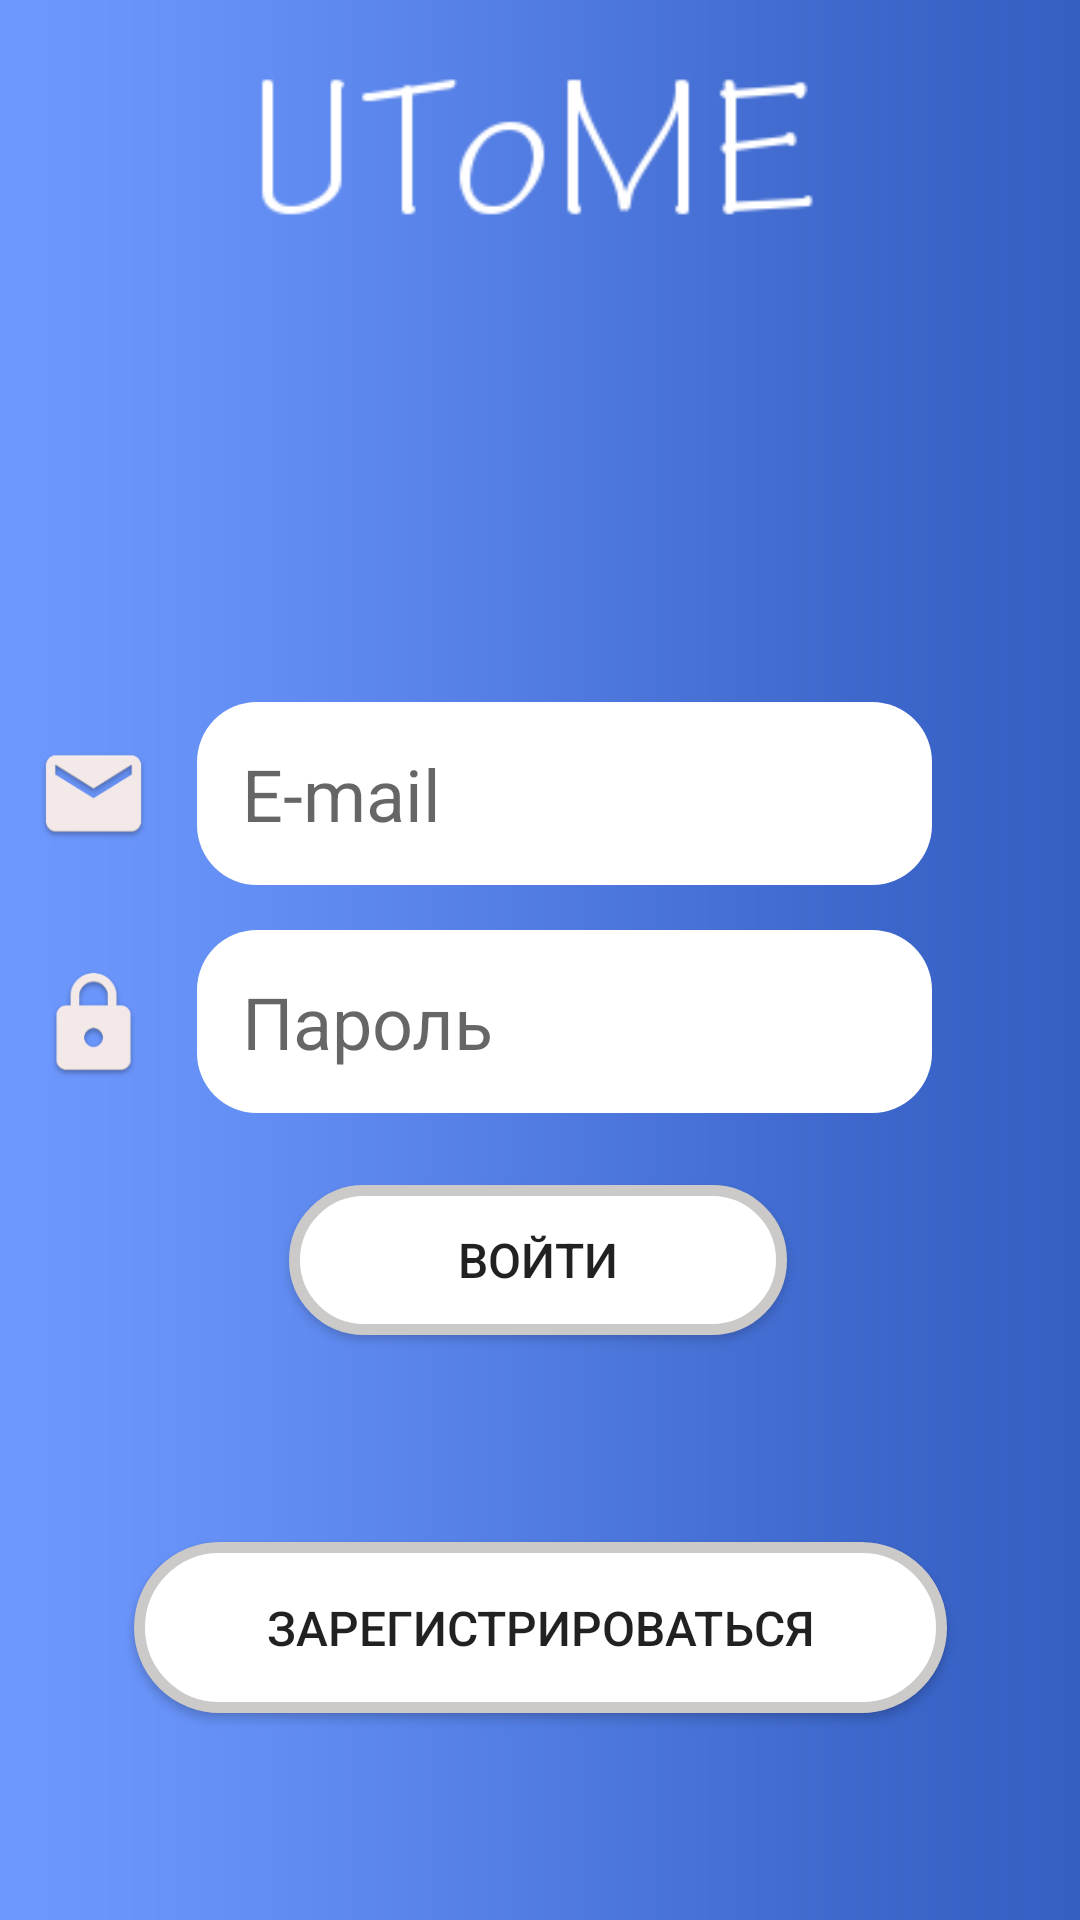

Where to tap for icons on this 1080w x 1920h app screen, as point (x, y):
lock: point (93, 1023)
